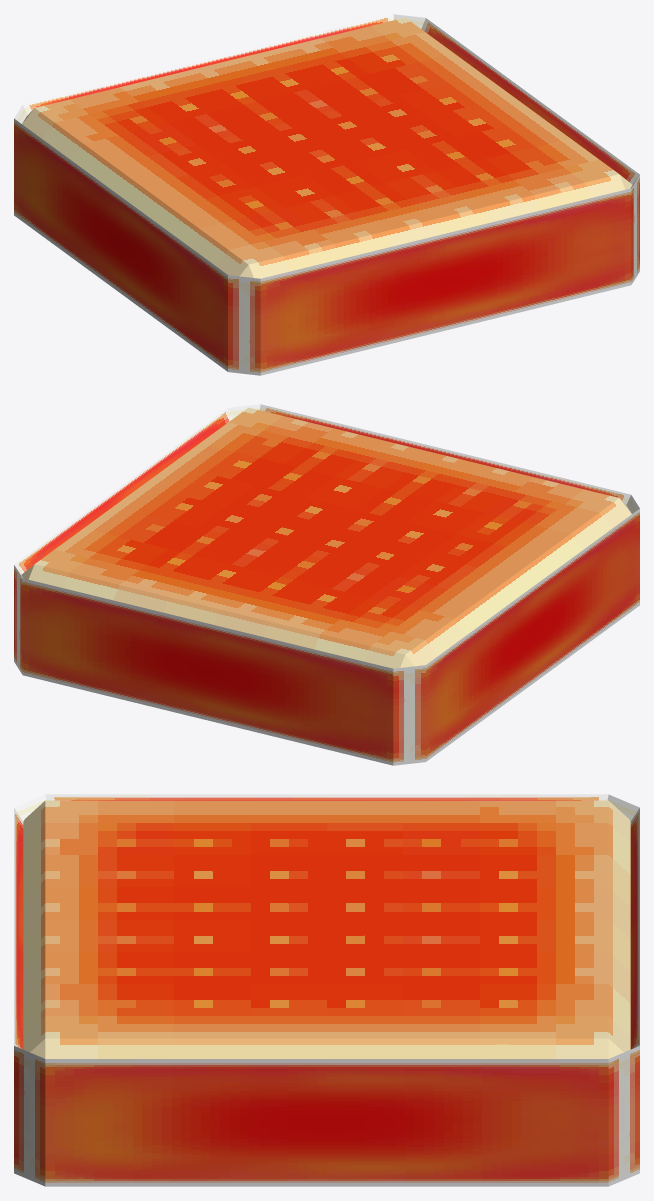
The model's file is redblock.obj.
The picture shows the model from 3 angles, top to bottom: view 1: azimuth 30°, elevation 25°; view 2: azimuth 150°, elevation 25°; view 3: azimuth 270°, elevation 25°; orthographic projection. The views are drawn at different scales.
Visible parts, largest first — view 1: obj2, obj1; view 2: obj2, obj1; view 3: obj2, obj1.
Part boxes in pixels (x1,y1,x2,y2): obj2: (22,17,632,278); obj1: (14,14,639,375); obj2: (21,407,631,668); obj1: (14,404,639,765); obj2: (23,800,630,1058); obj1: (14,794,639,1186).
Size of the model in its own units: 20 by 5 by 20.
